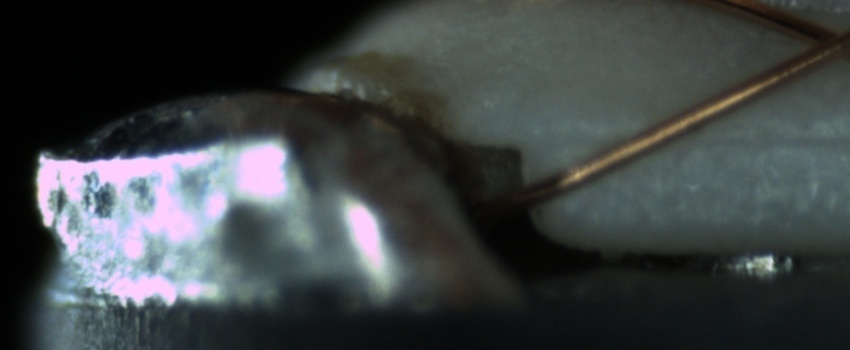CL: (778, 11, 850, 74)
DL: (570, 106, 850, 169)
